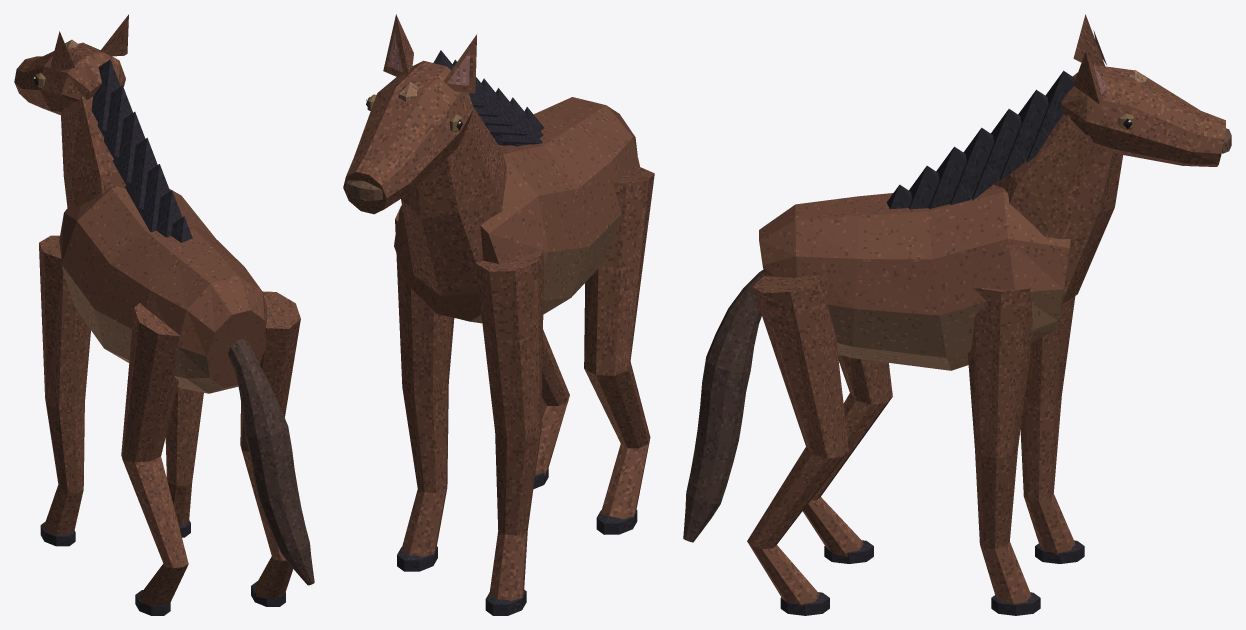
The model's file is mon_horse.glb.
3 renders of one model, left to right at view 1: azimuth 30°, elevation 25°; view 2: azimuth 150°, elevation 25°; view 3: azimuth 270°, elevation 25°, orthographic. The views are drawn at different scales.
Parts seen in each view (by area): view 1: closed_body; view 2: closed_body; view 3: closed_body.
Boxes of the visible parts, left/top/right/bottom form: closed_body: left=14, top=14, right=314, bottom=615; closed_body: left=343, top=14, right=654, bottom=615; closed_body: left=683, top=14, right=1231, bottom=615.
Bounding box in the file's own units: 0.9066 × 3.17 × 2.84.
Materials: 1 (1 with a texture image).
